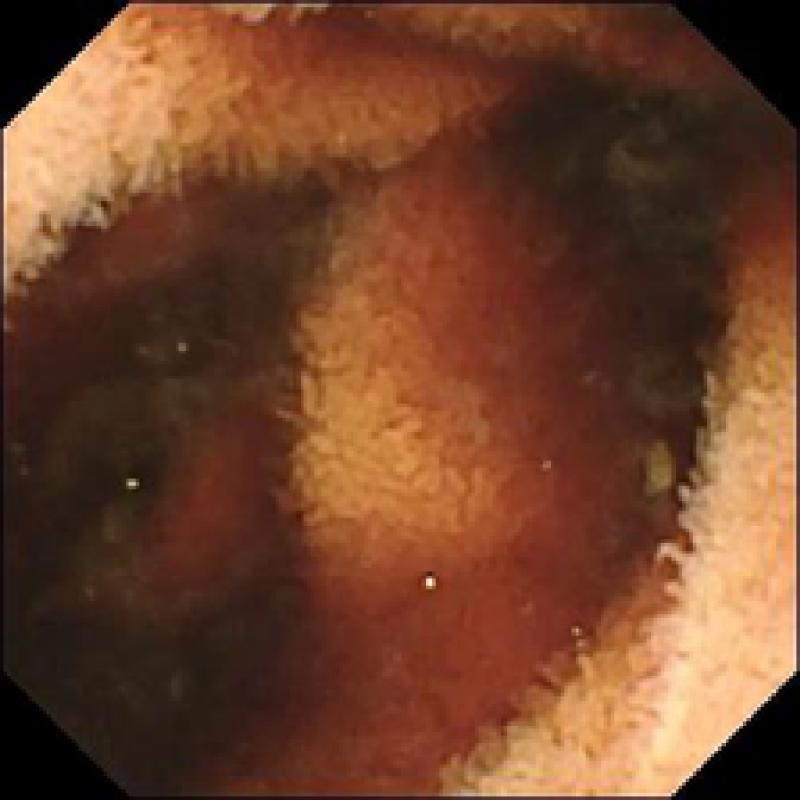bleeding: (107, 378, 264, 596)
